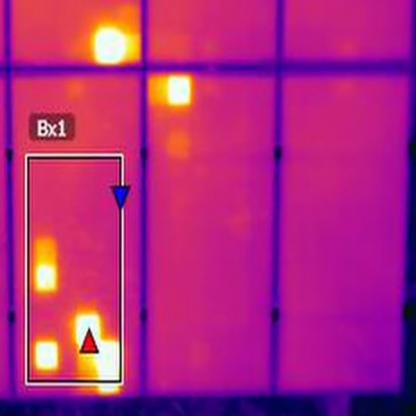Defects: (96, 33, 124, 63), (36, 339, 58, 373), (98, 341, 115, 384), (38, 268, 60, 296), (170, 76, 189, 104), (37, 243, 56, 266), (151, 76, 169, 100), (78, 312, 95, 332)
